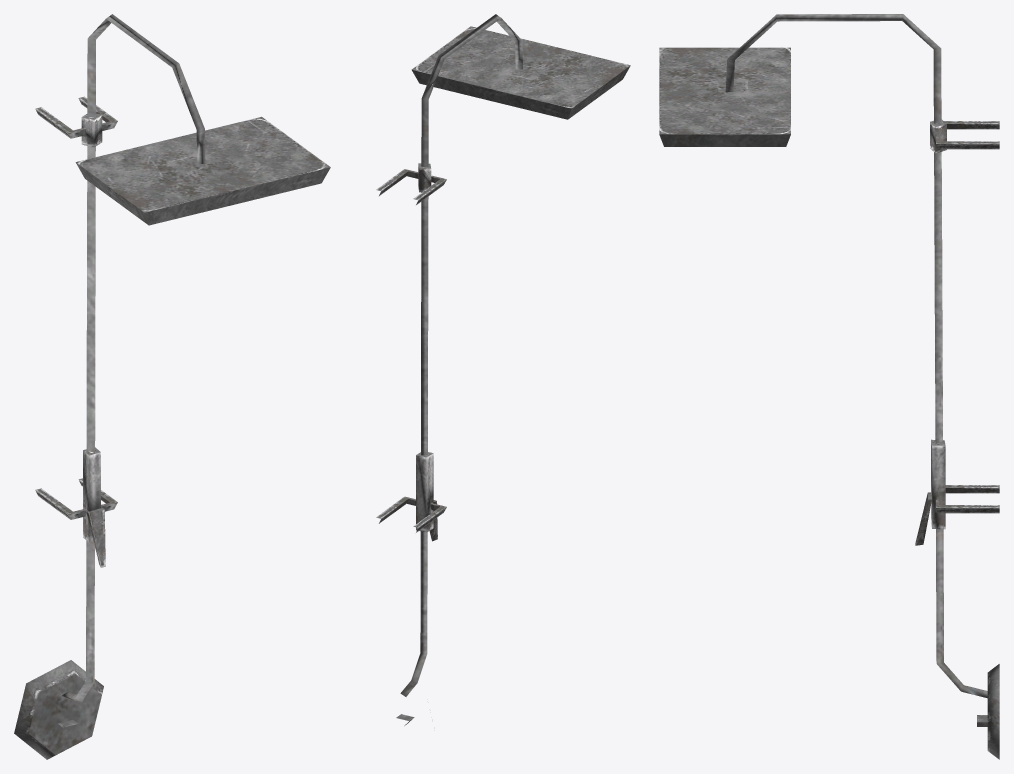
Rendered from Prop_Hs01_lod1.glb.
The picture shows the model from 3 angles, left to right: view 1: azimuth 30°, elevation 25°; view 2: azimuth 150°, elevation 25°; view 3: azimuth 270°, elevation 25°; orthographic projection. The views are drawn at different scales.
Visible parts, largest first — view 1: xiutz_hs_01_lod1; view 2: xiutz_hs_01_lod1; view 3: xiutz_hs_01_lod1.
Part boxes in pixels (<box>): xiutz_hs_01_lod1: <box>14,14,330,759</box>; xiutz_hs_01_lod1: <box>376,14,630,725</box>; xiutz_hs_01_lod1: <box>659,14,999,759</box>.
Bounding box in the file's own units: 0.884 × 3.53 × 1.47.
Materials: 1 (1 with a texture image).
